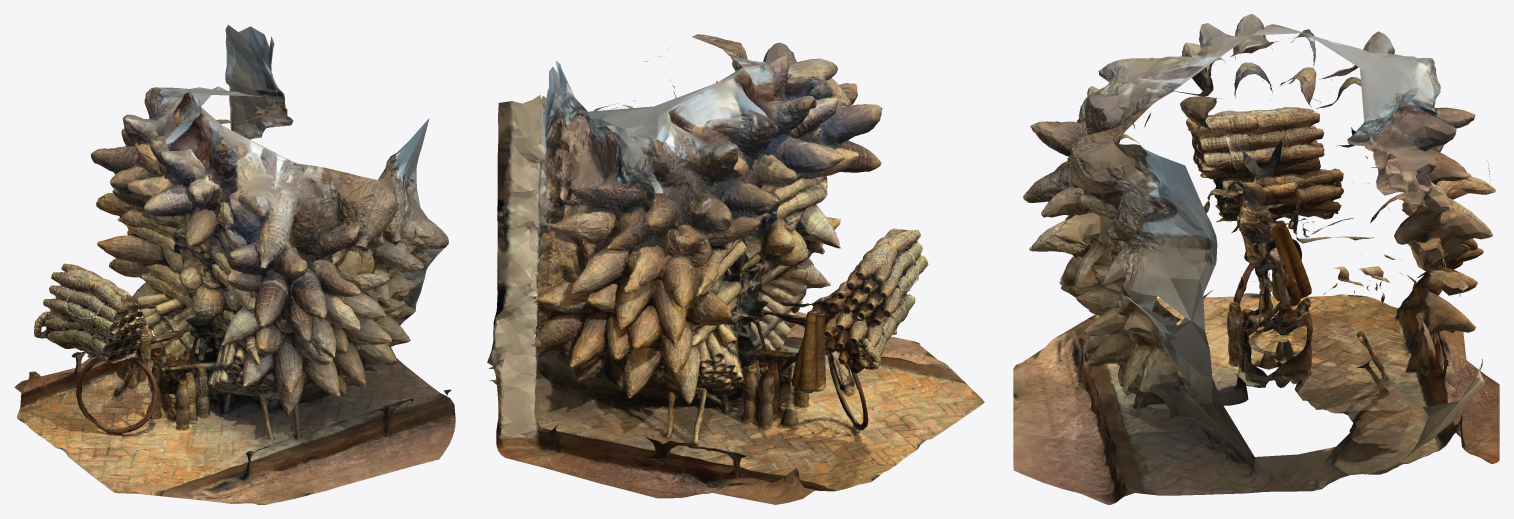
File: Xe chở đó.glb
The picture shows the model from 3 angles, left to right: view 1: azimuth 30°, elevation 25°; view 2: azimuth 150°, elevation 25°; view 3: azimuth 270°, elevation 25°; orthographic projection. The views are drawn at different scales.
Size of the model in its own units: 3.19 by 2.9 by 3.21.
1 material, 1 textured.
